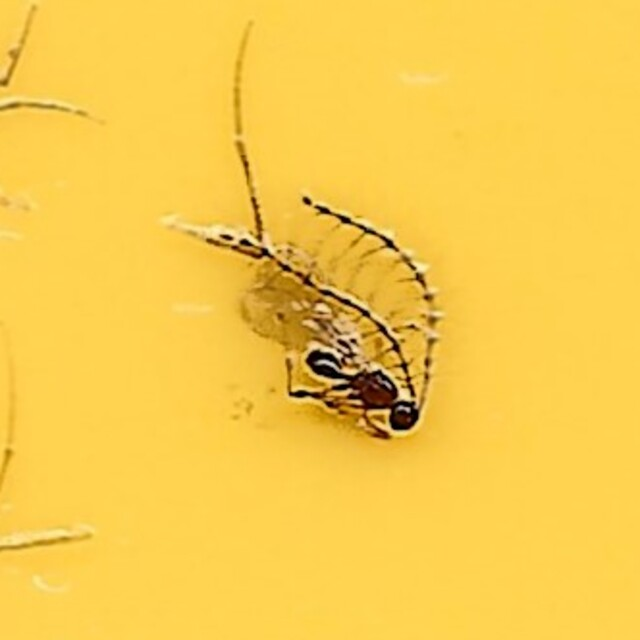Hymenoptera: (193, 189, 447, 451)
